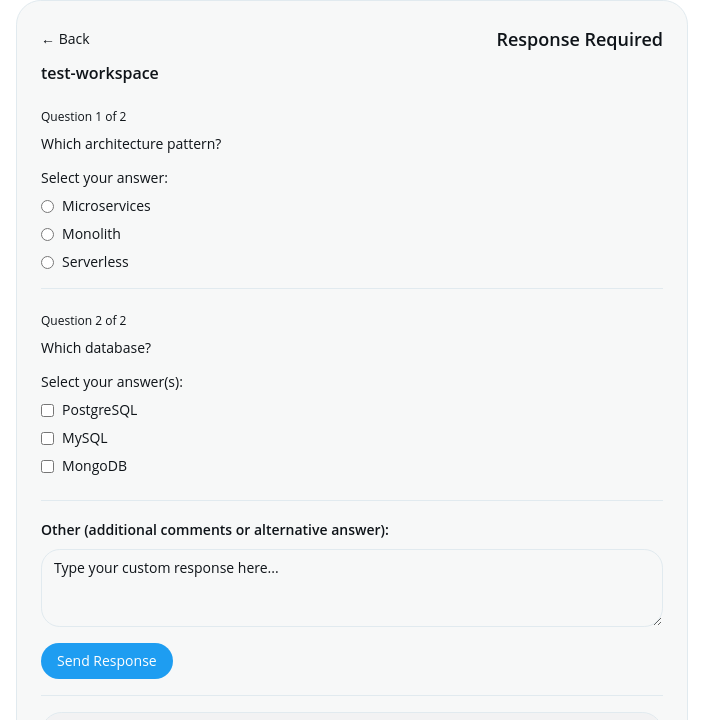
Test: ResponseMultiChoice › error handling › shows error when submission fails
Click the button "Send Response" at coordinates (107, 660), box top-left (41, 642), bottom-right (173, 678)
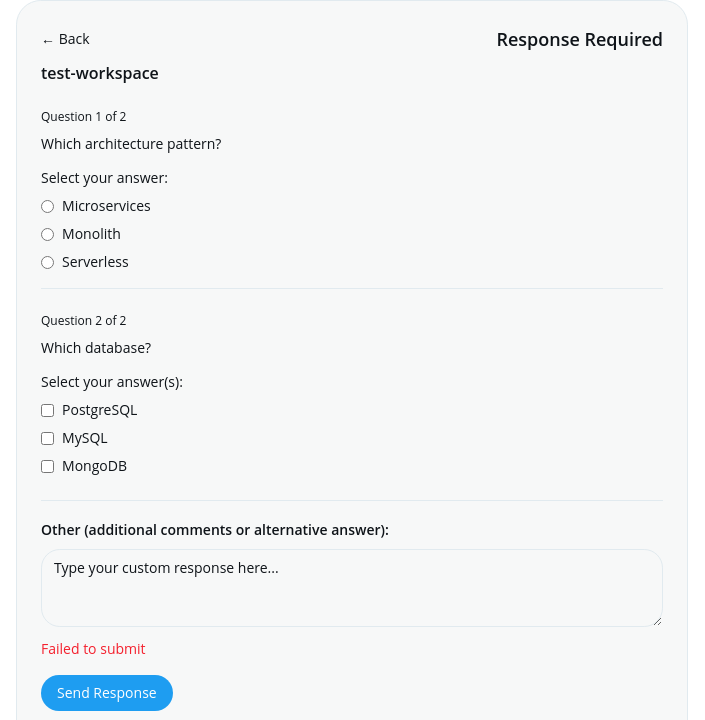
Now the text "Failed to submit" is shown, box top-left (41, 638), bottom-right (146, 658)
